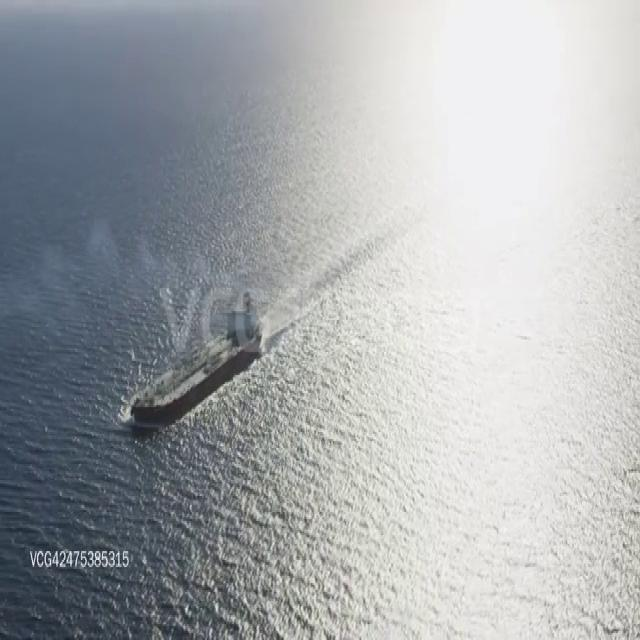cargoship: (129, 288, 262, 428)
